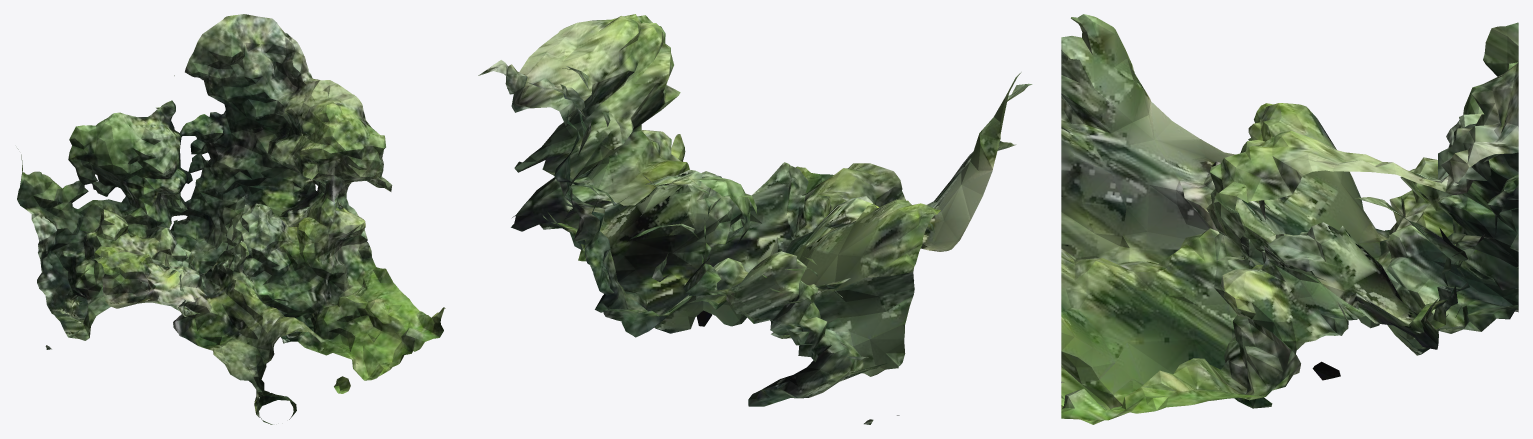
3 renders of one model, left to right at view 1: azimuth 30°, elevation 25°; view 2: azimuth 150°, elevation 25°; view 3: azimuth 270°, elevation 25°, orthographic. The views are drawn at different scales.
Bounding box in the file's own units: 26.11 × 24.37 × 26.11.
Materials: 6 (6 with a texture image).
